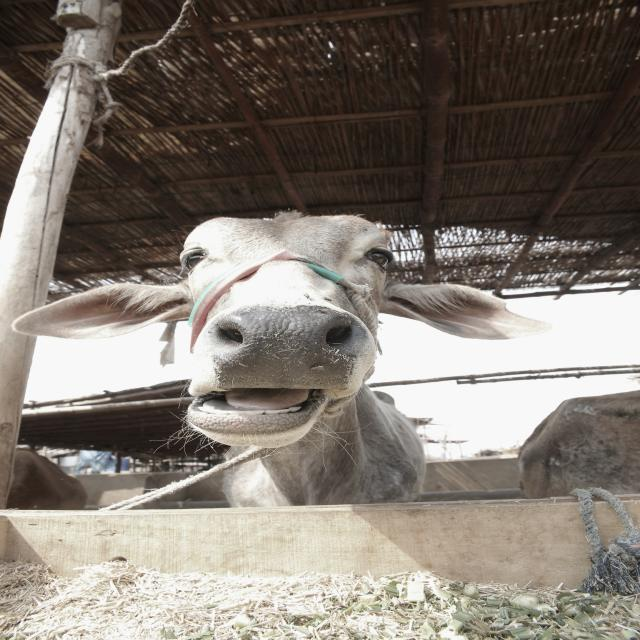muzzles: (210, 305, 366, 389)
